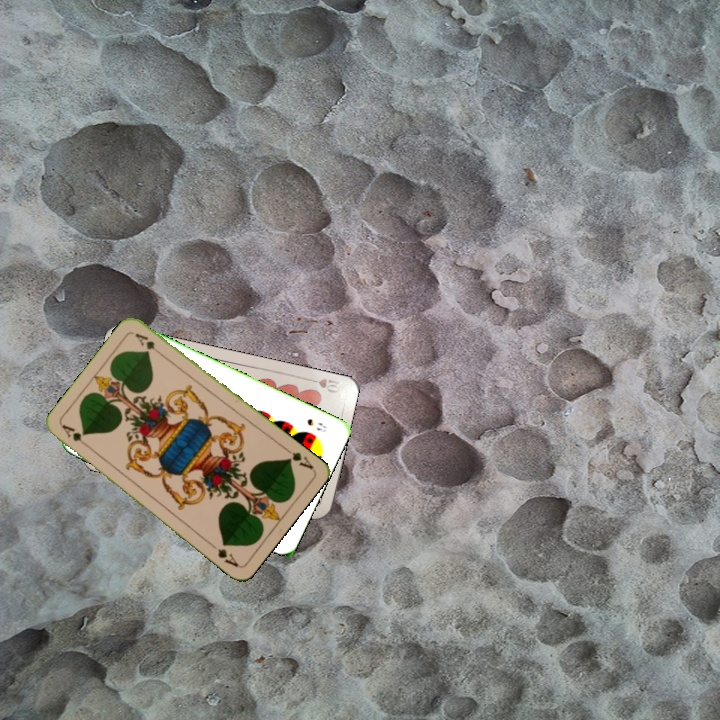GA: (58, 420, 93, 451), (280, 443, 316, 472)
H10: (304, 374, 344, 396)
S8: (303, 414, 329, 435)
